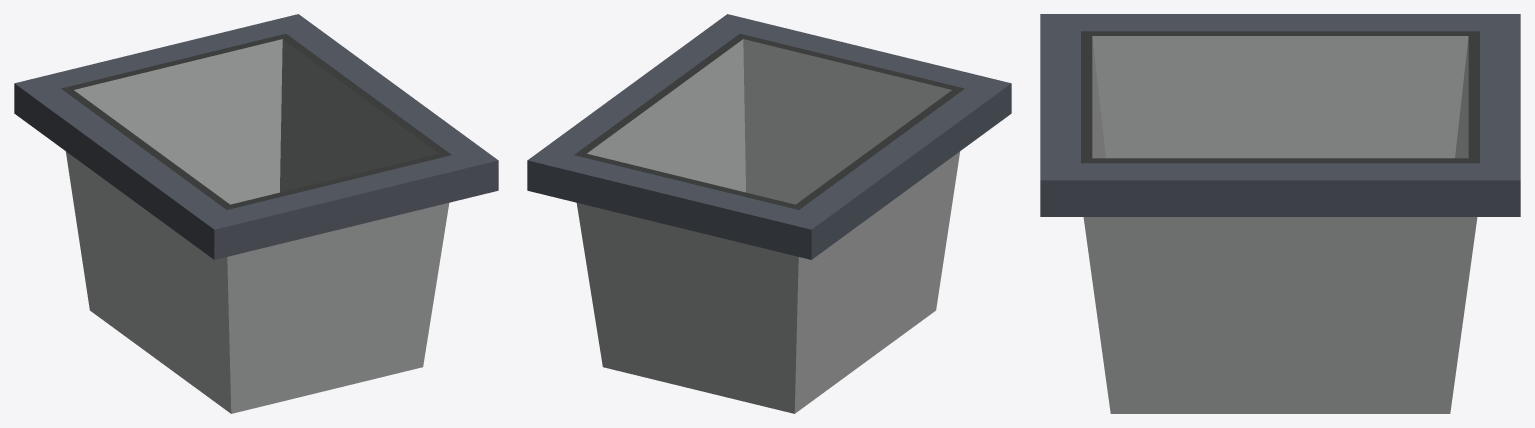
The model's file is garbase container1.FBX.
3 views of the same model, side by side, from view 1: azimuth 30°, elevation 25°; view 2: azimuth 150°, elevation 25°; view 3: azimuth 270°, elevation 25° (orthographic). The views are drawn at different scales.
Parts seen in each view (by area): view 1: garbase container1; view 2: garbase container1; view 3: garbase container1.
Part boxes in pixels (left/top/right/bottom): garbase container1: left=14, top=14, right=498, bottom=413; garbase container1: left=527, top=14, right=1011, bottom=413; garbase container1: left=1040, top=14, right=1520, bottom=413.
Bounding box in the file's own units: 4.47 × 3.27 × 5.46.
